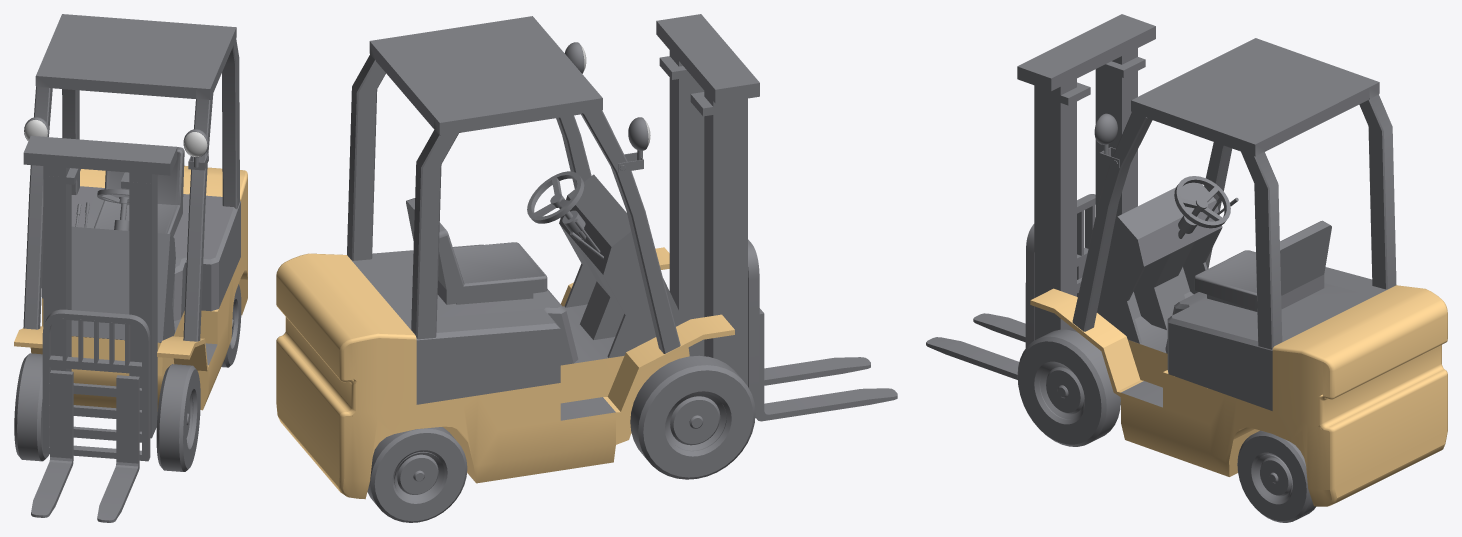
File: chariot.glb
3 views of the same model, side by side, from view 1: azimuth 30°, elevation 25°; view 2: azimuth 150°, elevation 25°; view 3: azimuth 270°, elevation 25° (orthographic). The views are drawn at different scales.
Parts seen in each view (by area): view 1: Roof, Cube_12_2_2, Cube_3_2, Panel, Cube_13_2, Tube, Cube_3, Cube_12, Sweep, Cube_6, Cube_4, Cube_8 (+7 smaller); view 2: Cube_3_2, Roof, Cube_12_2_2, Cube_3, Panel, Tube, Tube_2, Cube_12, Cube_13_2, Cube_4, Cylinder_2, Cylinder_3 (+5 smaller); view 3: Cube_3_2, Roof, Cube_12_2_2, Cube_3, Panel, Tube, Cube_12, Tube_2, Cube_4, Cube_6, Cube_13_2, Cylinder_2 (+5 smaller).
Part boxes in pixels (x1,y1,x2,y2): Roof: (23,14,239,341); Cube_12_2_2: (43,166,157,438); Cube_3_2: (14,165,247,411); Panel: (71,226,175,342); Cube_13_2: (31,370,139,522); Tube: (14,353,200,471); Cube_3: (42,186,240,320); Cube_12: (23,136,177,175); Sweep: (42,309,150,461); Cube_6: (105,147,184,212); Cube_4: (94,200,182,236); Cube_8: (49,355,141,374); Cube_3_2: (276,247,734,499); Roof: (347,16,680,353); Cube_12_2_2: (669,50,747,385); Cube_3: (348,244,578,404); Panel: (559,174,684,357); Tube: (630,355,755,479); Tube_2: (367,427,467,522); Cube_12: (656,14,759,103); Cube_13_2: (756,308,897,421); Cube_4: (437,242,547,304); Cylinder_2: (667,393,726,450); Cylinder_3: (394,451,444,501); Cube_3_2: (1030,285,1447,506); Roof: (1072,38,1396,349); Cube_12_2_2: (1034,48,1137,340); Cube_3: (1165,267,1393,410); Panel: (1097,182,1222,343); Tube: (1017,329,1120,446); Cube_12: (1017,14,1155,91); Tube_2: (1237,430,1316,522); Cube_4: (1194,250,1324,310); Cube_6: (1255,220,1331,303); Cube_13_2: (926,263,1085,379); Cylinder_2: (1040,364,1084,419).
Size of the model in its own units: 0.0181 by 0.0159 by 0.0201.
